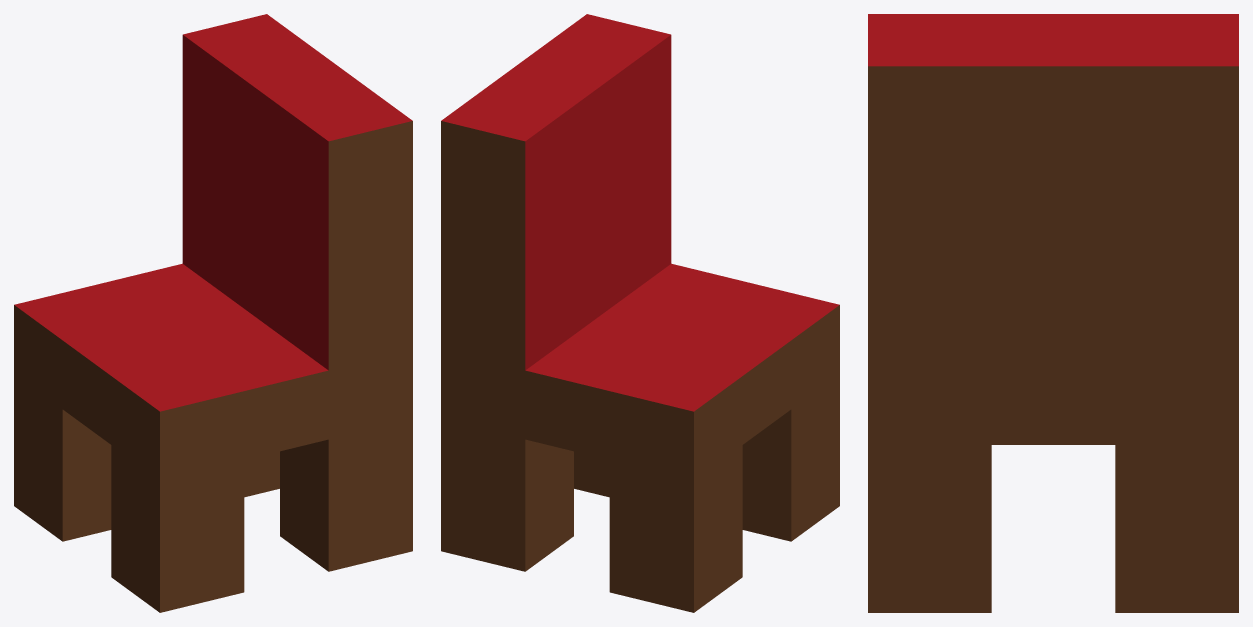
Rendered from Chair.fbx.
The picture shows the model from 3 angles, left to right: view 1: azimuth 30°, elevation 25°; view 2: azimuth 150°, elevation 25°; view 3: azimuth 270°, elevation 25°; orthographic projection. The views are drawn at different scales.
Visible parts, largest first — view 1: Chair; view 2: Chair; view 3: Chair.
Boxes of the visible parts, left/top/right/bottom form: Chair: left=14, top=14, right=412, bottom=612; Chair: left=441, top=14, right=839, bottom=612; Chair: left=868, top=14, right=1238, bottom=612.
Bounding box in the file's own units: 56.95 × 92.61 × 56.95.
